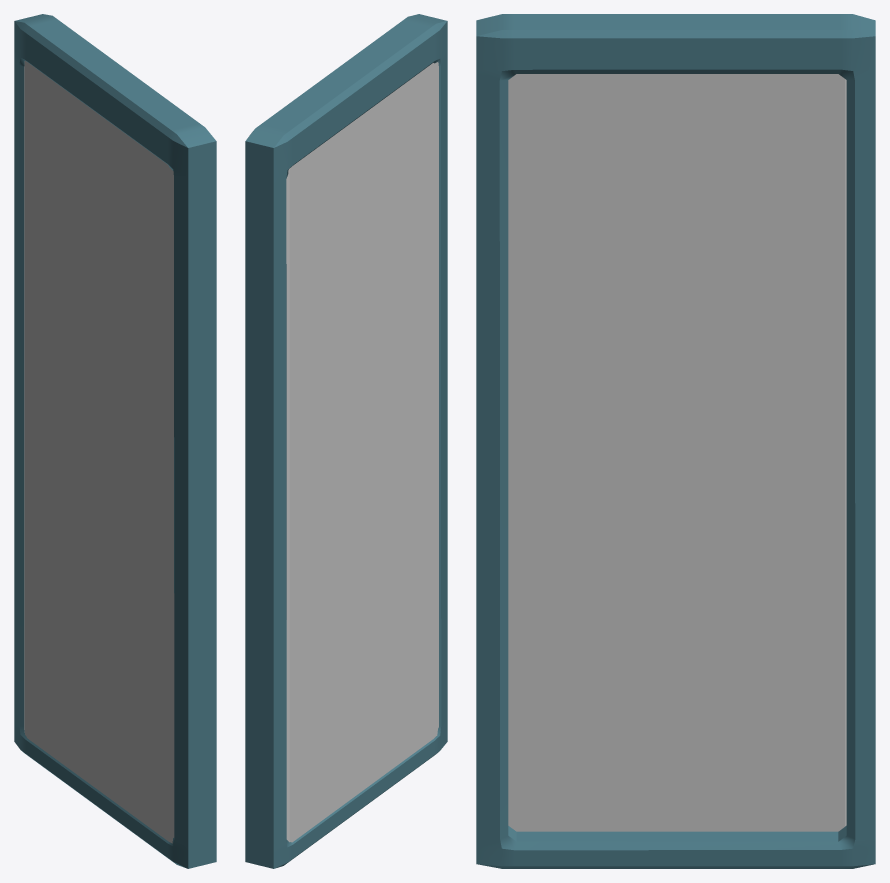
Rendered from bus_frontDoor_mdl.fbx.
The picture shows the model from 3 angles, left to right: view 1: azimuth 30°, elevation 25°; view 2: azimuth 150°, elevation 25°; view 3: azimuth 270°, elevation 25°; orthographic projection. The views are drawn at different scales.
Visible parts, largest first — view 1: bus_frontDoor; view 2: bus_frontDoor; view 3: bus_frontDoor.
Part boxes in pixels (left/top/right/bottom): bus_frontDoor: left=14, top=14, right=216, bottom=868; bus_frontDoor: left=245, top=14, right=447, bottom=868; bus_frontDoor: left=476, top=14, right=875, bottom=868.
Bounding box in the file's own units: 0.101 × 1.96 × 0.8463.
